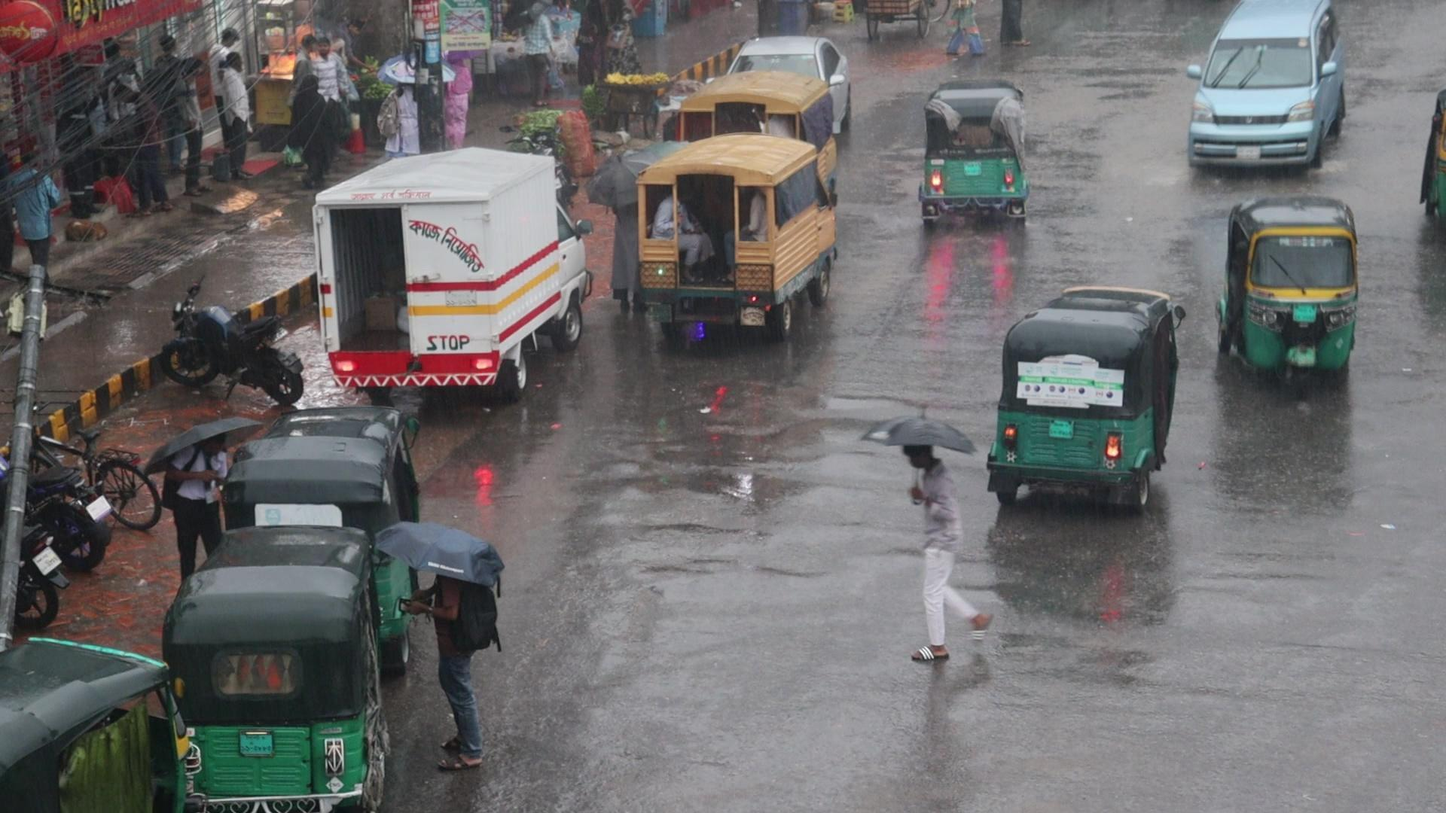Car: (1186, 5, 1350, 181)
Truck: (627, 117, 840, 346)
